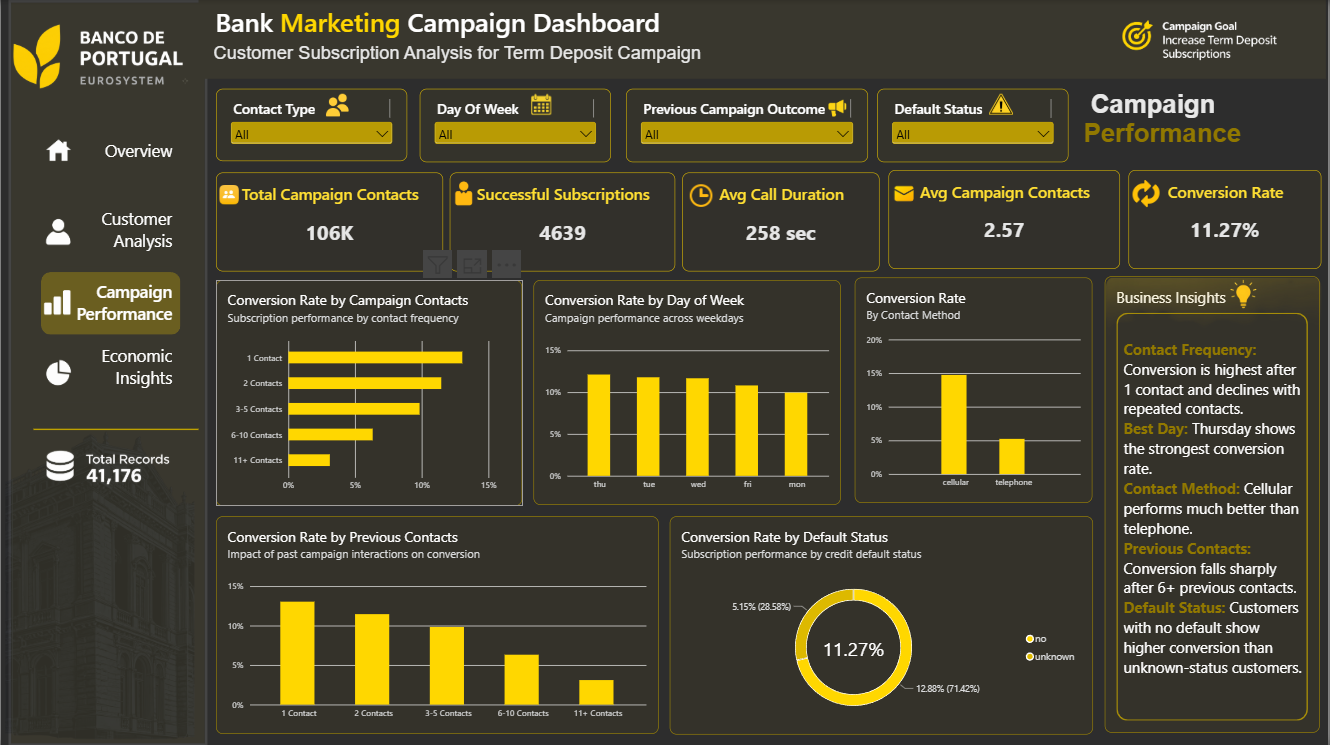

What the dashboard file says about the page in this screenshot:
{"tool":"powerbi","page":{"name":"Campaign Performance","canvas":[1920,1080],"ordinal":2},"visuals":[{"type":"card","title":"Total Campaign Contacts","fields":{"Values":["Cleaned_Bank_Data.Total Campaign Contacts"]},"box":[311.6,248.9,328.9,142.8],"z":0},{"type":"card","title":"Successful Subscriptions","fields":{"Values":["Cleaned_Bank_Data.Successful Subscriptions"]},"box":[649.2,248.9,326.8,142.8],"z":1000},{"type":"card","title":"Avg Call Duration","fields":{"Values":["Cleaned_Bank_Data.Average Call Duration KPI"]},"box":[986.8,248.9,285.7,142.8],"z":2000},{"type":"card","title":"Conversion Rate","fields":{"Values":["Cleaned_Bank_Data.Conversion Rate"]},"box":[1631.8,246.7,279.2,142.8],"z":3000},{"type":"card","title":"Avg Campaign Contacts","fields":{"Values":["Cleaned_Bank_Data.Average Campaign Contacts"]},"box":[1285.5,246.7,335.4,142.8],"z":4000},{"type":"columnChart","title":"Conversion Rate","fields":{"Category":["Cleaned_Bank_Data.contact"],"Y":["Cleaned_Bank_Data.Conversion Rate"]},"box":[1235.7,402.5,344.1,326.8],"z":5000},{"type":"clusteredColumnChart","title":"Conversion Rate by Day of Week","fields":{"Category":["Cleaned_Bank_Data.day_of_week"],"Y":["Cleaned_Bank_Data.Conversion Rate"]},"box":[770.9,405.4,445.2,325.7],"z":6000},{"type":"clusteredBarChart","title":"Conversion Rate by Campaign Contacts","fields":{"Category":["Cleaned_Bank_Data.campaign_contact_group"],"Y":["Cleaned_Bank_Data.Conversion Rate"]},"box":[311.3,405.4,443,327],"z":7000},{"type":"donutChart","title":"Conversion Rate by Default Status","fields":{"Category":["Cleaned_Bank_Data.default"],"Y":["Cleaned_Bank_Data.Conversion Rate"]},"box":[967.4,746.6,612.5,316],"z":8000},{"type":"clusteredColumnChart","title":"Conversion Rate by Previous Contacts","fields":{"Category":["Cleaned_Bank_Data.campaign_contact_group"],"Y":["Cleaned_Bank_Data.Conversion Rate"]},"box":[311.3,747.4,640.6,314.9],"z":9000},{"type":"shape","box":[10.9,0,287.7,1080.4],"z":10000},{"type":"image","box":[0,0,287.7,162.9],"z":11000},{"type":"shape","box":[285.9,0,1632.3,114],"z":12000},{"type":"textbox","box":[298.6,0,787.2,114],"z":13000},{"type":"image","box":[0,584.3,285.7,495.6],"z":14000},{"type":"image","box":[1567.2,0,336.6,114],"z":15000},{"type":"pageNavigator","box":[57.9,195.4,202.7,389.1],"z":16000},{"type":"image","box":[59.7,298.6,47.1,72.4],"z":17000},{"type":"image","box":[59.7,181,47.1,72.4],"z":18000},{"type":"image","box":[57.9,399.9,47.1,72.4],"z":19000},{"type":"image","box":[59.7,503.1,47.1,72.4],"z":20000},{"type":"shape","box":[47.1,555.6,238.9,132.1],"z":21000},{"type":"slicer","fields":{"Values":["Cleaned_Bank_Data.contact"]},"box":[311.3,128.5,276.9,105],"z":22000},{"type":"slicer","fields":{"Values":["Cleaned_Bank_Data.day_of_week"]},"box":[606,127.7,277,106],"z":23000},{"type":"slicer","fields":{"Values":["Cleaned_Bank_Data.previous_campaign_outcome"]},"box":[904.6,127.7,350.6,106],"z":24000},{"type":"image","box":[463.1,136.3,47.6,32.5],"z":25000},{"type":"shape","title":"Business Insights","box":[1597.9,399.9,311.3,660.5],"z":26000},{"type":"textbox","box":[1625.3,491.3,259.7,519.4],"z":27000},{"type":"image","box":[1599.3,400.4,311.6,179.6],"z":28000},{"type":"image","box":[1268.2,251,84.4,67.1],"z":29000},{"type":"image","box":[47.1,622.5,213.5,108.6],"z":30000},{"type":"image","box":[1735.5,392.7,126.7,68.8],"z":31000},{"type":"image","box":[651.4,255.4,36.8,49.8],"z":32000},{"type":"image","box":[997.7,251,32.5,62.8],"z":33000},{"type":"image","box":[1633.9,259.7,47.6,39],"z":34000},{"type":"textbox","box":[1567.2,128.5,342,139.3],"z":35000},{"type":"slicer","fields":{"Values":["Cleaned_Bank_Data.default"]},"box":[1268.2,127.7,277,106],"z":36000},{"type":"image","box":[757.4,136.3,47.6,32.5],"z":37000},{"type":"image","box":[1424,136.3,47.6,30.3],"z":38000},{"type":"image","box":[1188.9,141.2,45.2,30.8],"z":39000},{"type":"image","box":[313.8,268.4,34,28],"z":40000}]}

Visuals, with their boxes in screenshot pixels (x1, y1, x2, y2), scaled from the page's 1920x1080 canvas onto the 1330x745 screenshot:
"Total Campaign Contacts" card: (216, 172, 444, 270)
"Successful Subscriptions" card: (450, 172, 676, 270)
"Avg Call Duration" card: (684, 172, 881, 270)
"Conversion Rate" card: (1130, 170, 1324, 269)
"Avg Campaign Contacts" card: (890, 170, 1123, 269)
"Conversion Rate" columnChart: (856, 278, 1094, 503)
"Conversion Rate by Day of Week" clusteredColumnChart: (534, 280, 842, 504)
"Conversion Rate by Campaign Contacts" clusteredBarChart: (216, 280, 523, 505)
"Conversion Rate by Default Status" donutChart: (670, 515, 1094, 733)
"Conversion Rate by Previous Contacts" clusteredColumnChart: (216, 516, 659, 733)
shape: (8, 0, 207, 744)
image: (0, 0, 199, 112)
shape: (198, 0, 1329, 79)
textbox: (207, 0, 752, 79)
image: (0, 403, 198, 744)
image: (1086, 0, 1319, 79)
pageNavigator: (40, 135, 181, 403)
image: (41, 206, 74, 256)
image: (41, 125, 74, 175)
image: (40, 276, 73, 326)
image: (41, 347, 74, 397)
shape: (33, 383, 198, 474)
slicer - Cleaned_Bank_Data.contact: (216, 89, 407, 161)
slicer - Cleaned_Bank_Data.day_of_week: (420, 88, 612, 161)
slicer - Cleaned_Bank_Data.previous_campaign_outcome: (627, 88, 869, 161)
image: (321, 94, 354, 116)
"Business Insights" shape: (1107, 276, 1323, 731)
textbox: (1126, 339, 1306, 697)
image: (1108, 276, 1324, 400)
image: (878, 173, 937, 219)
image: (33, 429, 181, 504)
image: (1202, 271, 1290, 318)
image: (451, 176, 477, 211)
image: (691, 173, 714, 216)
image: (1132, 179, 1165, 206)
textbox: (1086, 89, 1323, 185)
slicer - Cleaned_Bank_Data.default: (878, 88, 1070, 161)
image: (525, 94, 558, 116)
image: (986, 94, 1019, 115)
image: (824, 97, 855, 119)
image: (217, 185, 241, 204)
